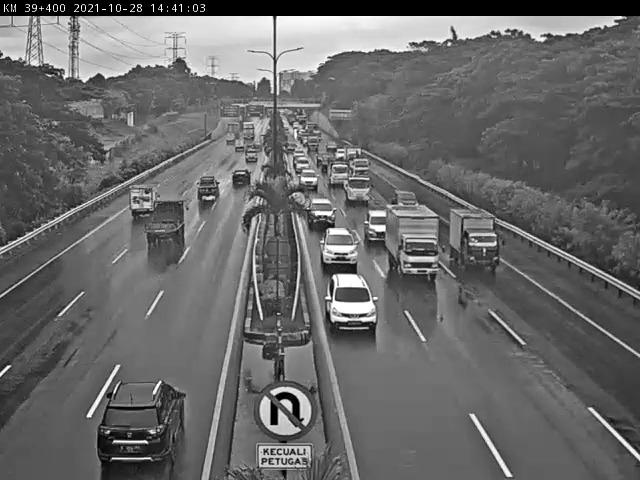car: (98, 379, 189, 475), (325, 274, 378, 333), (319, 226, 360, 268), (305, 197, 335, 229), (365, 208, 387, 244), (195, 174, 222, 201)
mid truck: (384, 203, 441, 281), (143, 198, 187, 246)
small truck: (449, 207, 501, 273), (127, 182, 160, 216)
